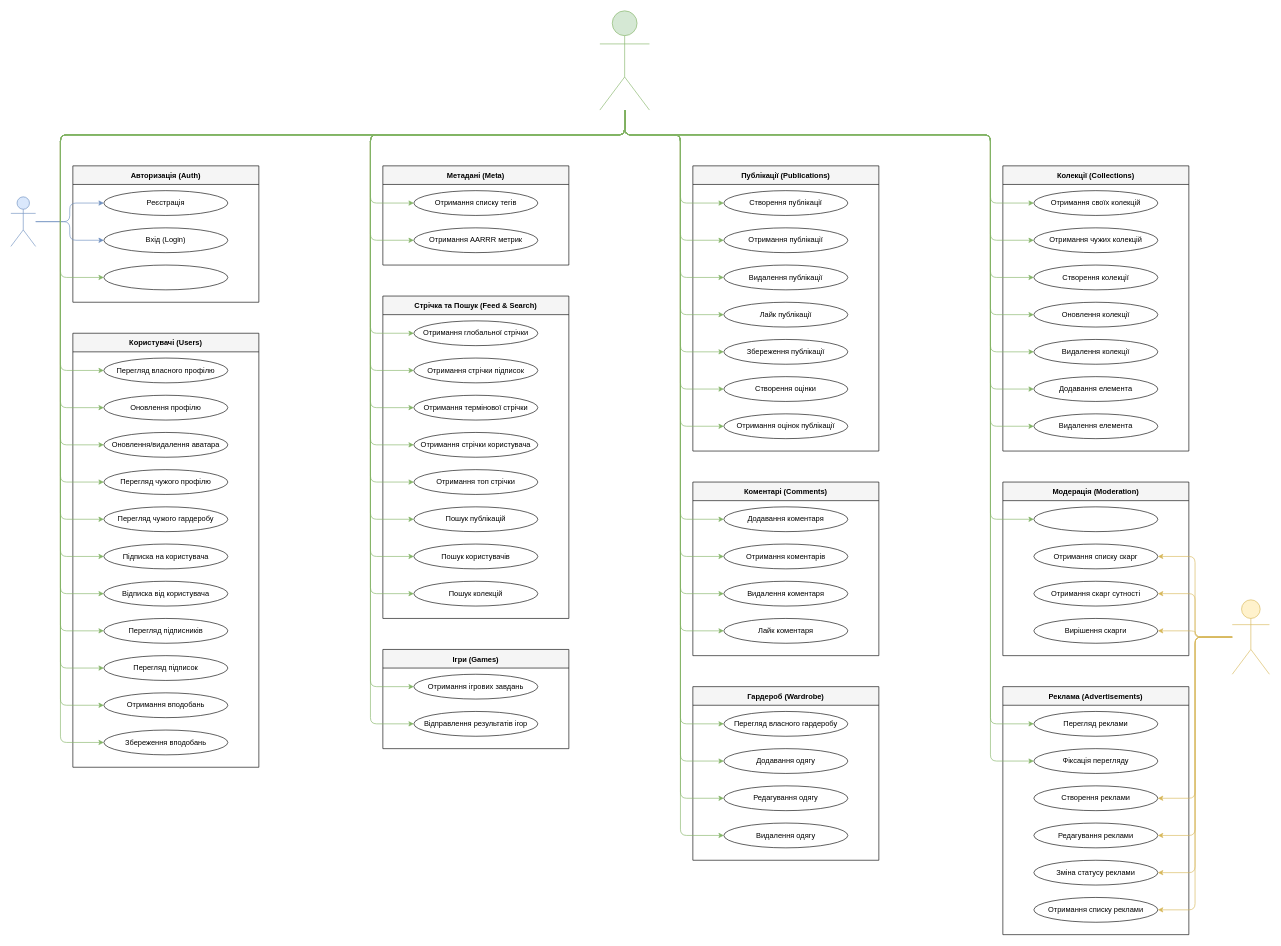
Some shapes in this 1281 by 946 pixel diagram are drawn without their labels. Each missing label, with the centre of its shape:
"Гість" belongs at (x=23, y=221).
"Зміна пароля" belongs at (x=165, y=277).
"Користувач" belongs at (x=624, y=60).
"Модератор" belongs at (x=1250, y=636).
"Створення скарги" belongs at (x=1095, y=519).
